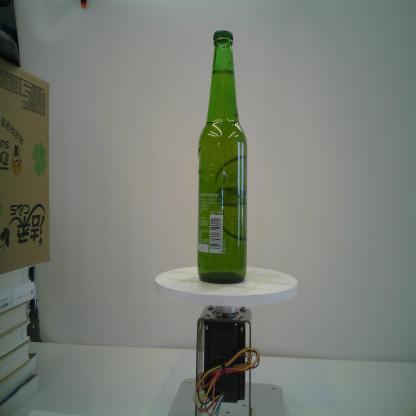Alcohol: (196, 28, 248, 286)
